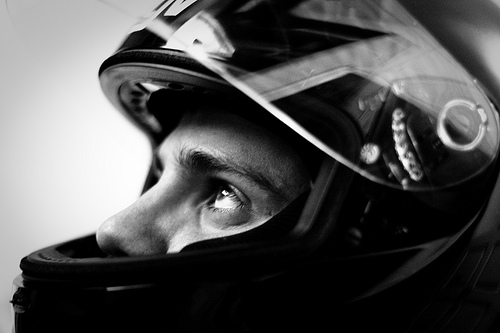helmet: (86, 7, 494, 307)
